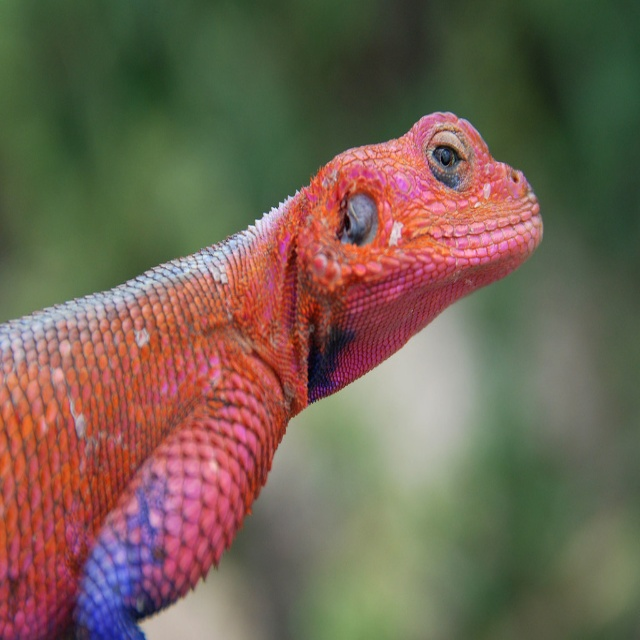Lizard: (0, 111, 544, 640)
